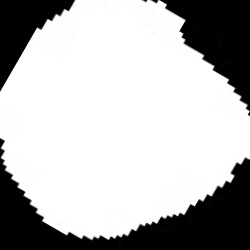spot: (2, 4, 248, 240)
